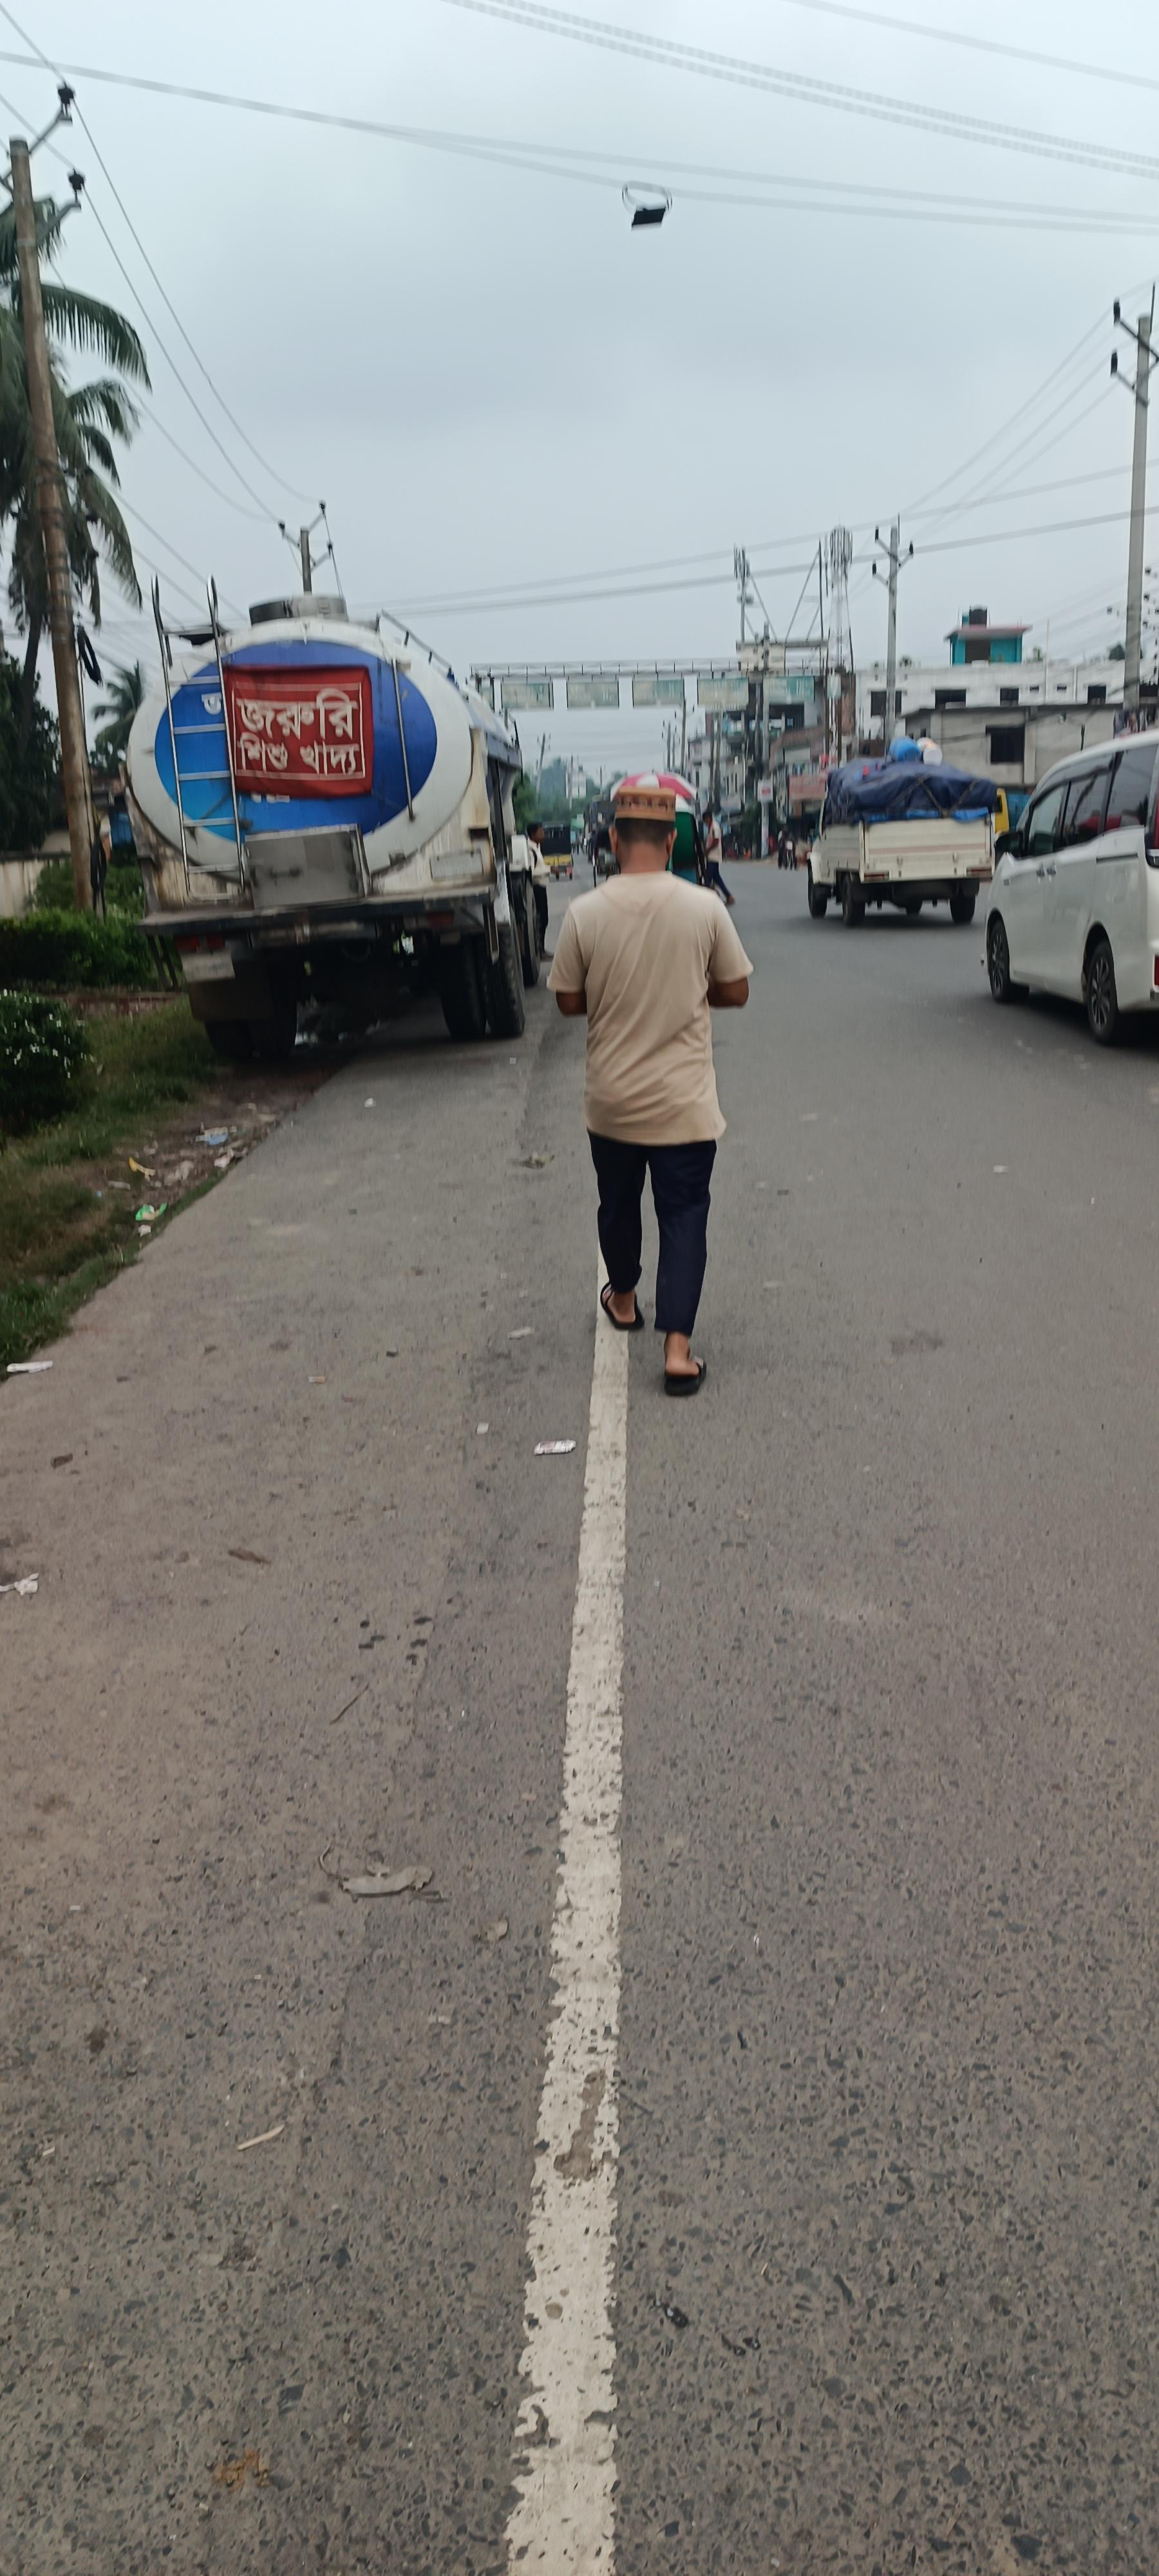Garbage-bin: (547, 771, 755, 1392)
Traffic-cone: (120, 570, 549, 1063), (883, 722, 1159, 1024)
